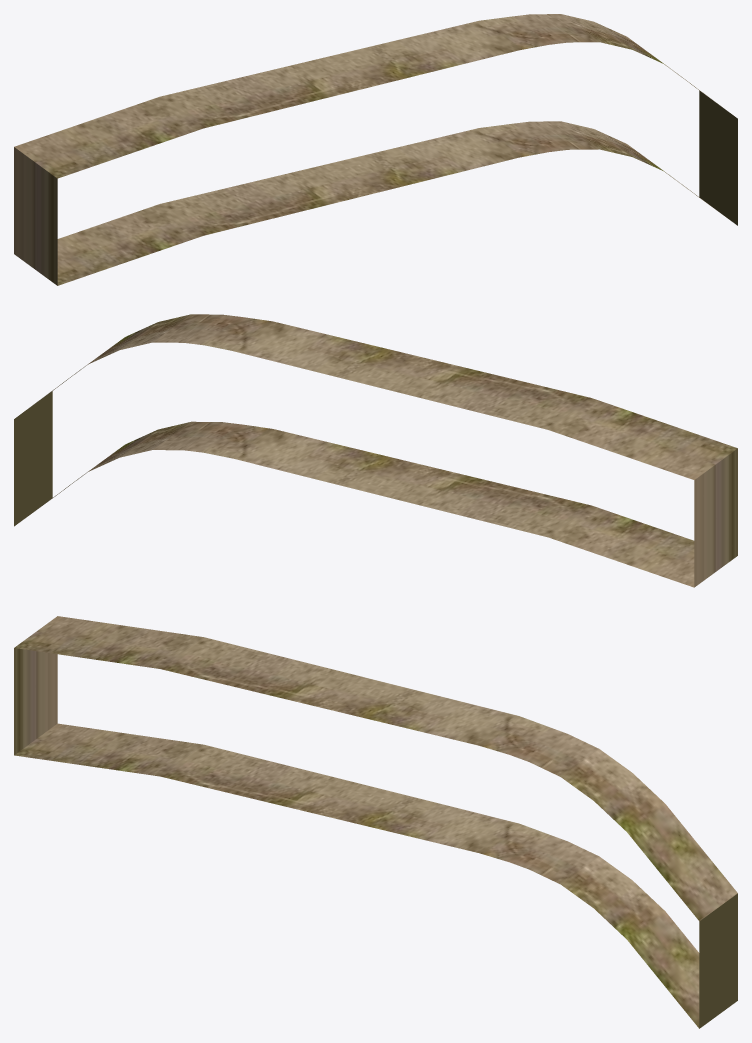
File: crematorium_just_path.fbx
The picture shows the model from 3 angles, top to bottom: view 1: azimuth 30°, elevation 25°; view 2: azimuth 150°, elevation 25°; view 3: azimuth 330°, elevation 25°; orthographic projection.
Visible parts, largest first — view 1: Mesh; view 2: Mesh; view 3: Mesh.
Boxes of the visible parts, box(x1,y1,x2,y2) form: Mesh: box(14, 14, 737, 285); Mesh: box(14, 314, 737, 587); Mesh: box(14, 616, 737, 1028).
Bounding box in the file's own units: 11780 × 3790 × 1302.
1 material, 1 textured.
